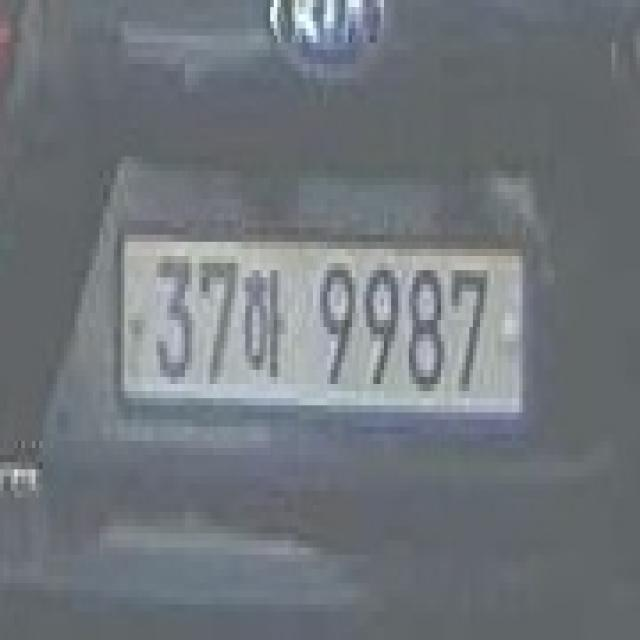3: (153, 242, 195, 391)
7: (199, 249, 238, 384), (448, 270, 487, 391)
8: (406, 263, 444, 398)
9: (316, 256, 356, 391), (359, 263, 398, 398)
ha: (238, 263, 284, 377)
license_plate: (117, 227, 534, 441)
